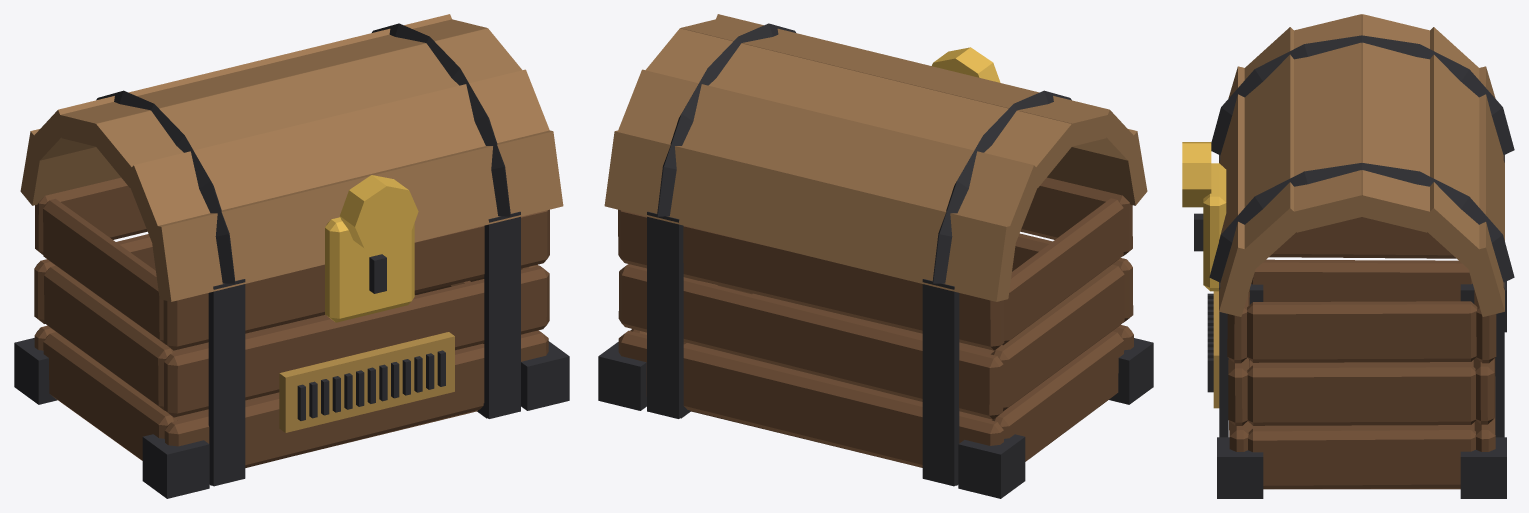
Rendered from ChestOfThirteen_A.glb.
3 renders of one model, left to right at view 1: azimuth 30°, elevation 25°; view 2: azimuth 150°, elevation 25°; view 3: azimuth 270°, elevation 25°, orthographic. The views are drawn at different scales.
Visible parts, largest first — view 1: Lid__WoodLight, Body__Wood, Bands__Iron, Lock__Gold, Plaque__Brass, Notches__Iron, Keyhole__Iron; view 2: Lid__WoodLight, Body__Wood, Bands__Iron, Lock__Gold; view 3: Body__Wood, Lid__WoodLight, Bands__Iron, Lock__Gold, Plaque__Brass, Notches__Iron, Keyhole__Iron.
Boxes of the visible parts, x1=… form: Lid__WoodLight: x1=20, y1=14, x2=563, y2=301; Body__Wood: x1=34, y1=177, x2=549, y2=467; Bands__Iron: x1=14, y1=23, x2=569, y2=498; Lock__Gold: x1=325, y1=175, x2=418, y2=322; Plaque__Brass: x1=279, y1=332, x2=454, y2=432; Notches__Iron: x1=297, y1=350, x2=445, y2=420; Keyhole__Iron: x1=369, y1=254, x2=386, y2=293; Lid__WoodLight: x1=604, y1=14, x2=1147, y2=301; Body__Wood: x1=618, y1=177, x2=1133, y2=467; Bands__Iron: x1=598, y1=23, x2=1153, y2=498; Lock__Gold: x1=932, y1=47, x2=1000, y2=82; Body__Wood: x1=1227, y1=217, x2=1496, y2=489; Lid__WoodLight: x1=1219, y1=14, x2=1504, y2=316; Bands__Iron: x1=1209, y1=35, x2=1514, y2=498; Lock__Gold: x1=1182, y1=142, x2=1226, y2=291; Plaque__Brass: x1=1213, y1=291, x2=1219, y2=408; Notches__Iron: x1=1207, y1=293, x2=1213, y2=392; Keyhole__Iron: x1=1194, y1=213, x2=1203, y2=251.
Size of the model in its own units: 0.038 by 0.0293 by 0.0287.
